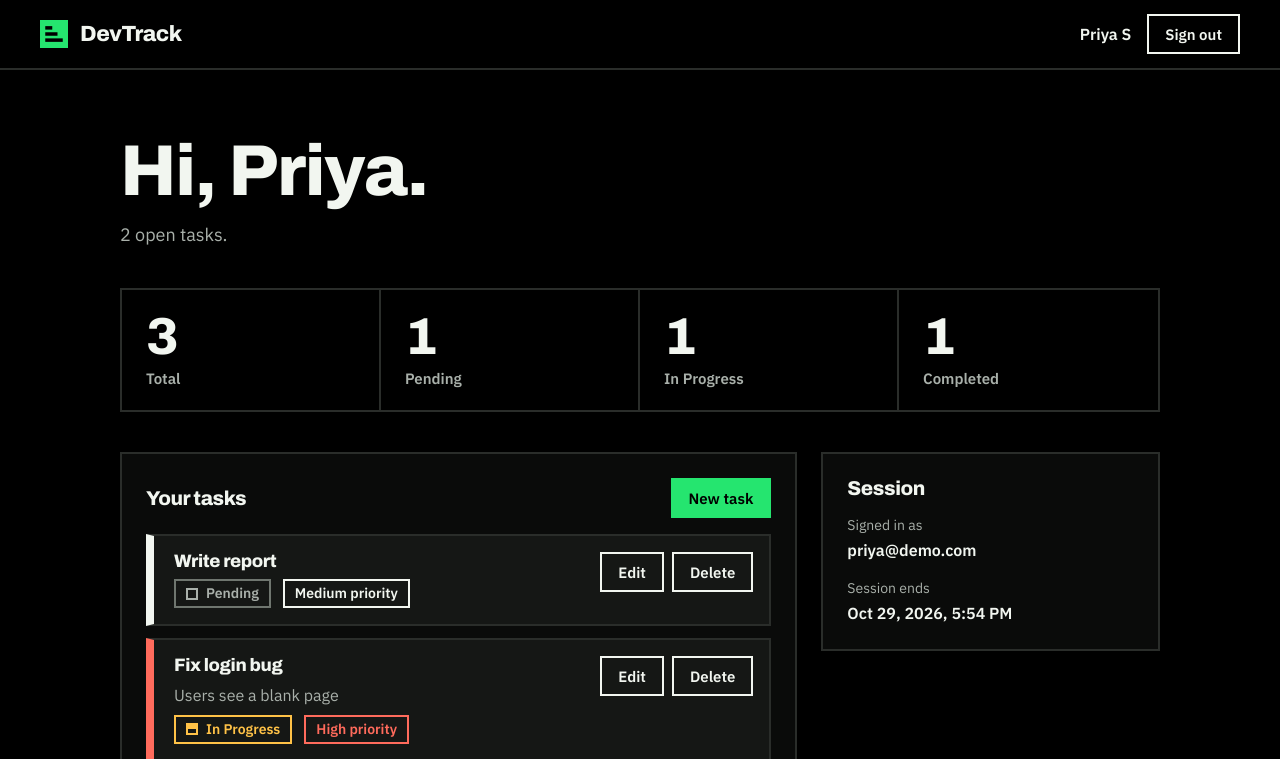
Dashboard: create › creates a task, closes the dialog and adds it to the top of the list
The image size is (1280, 759).
Expected: the heading "Hi, Priya." is shown, top-left (120, 132), bottom-right (428, 210)
Click the button "New task" at (721, 498), box top-left (670, 478), bottom-right (771, 518)
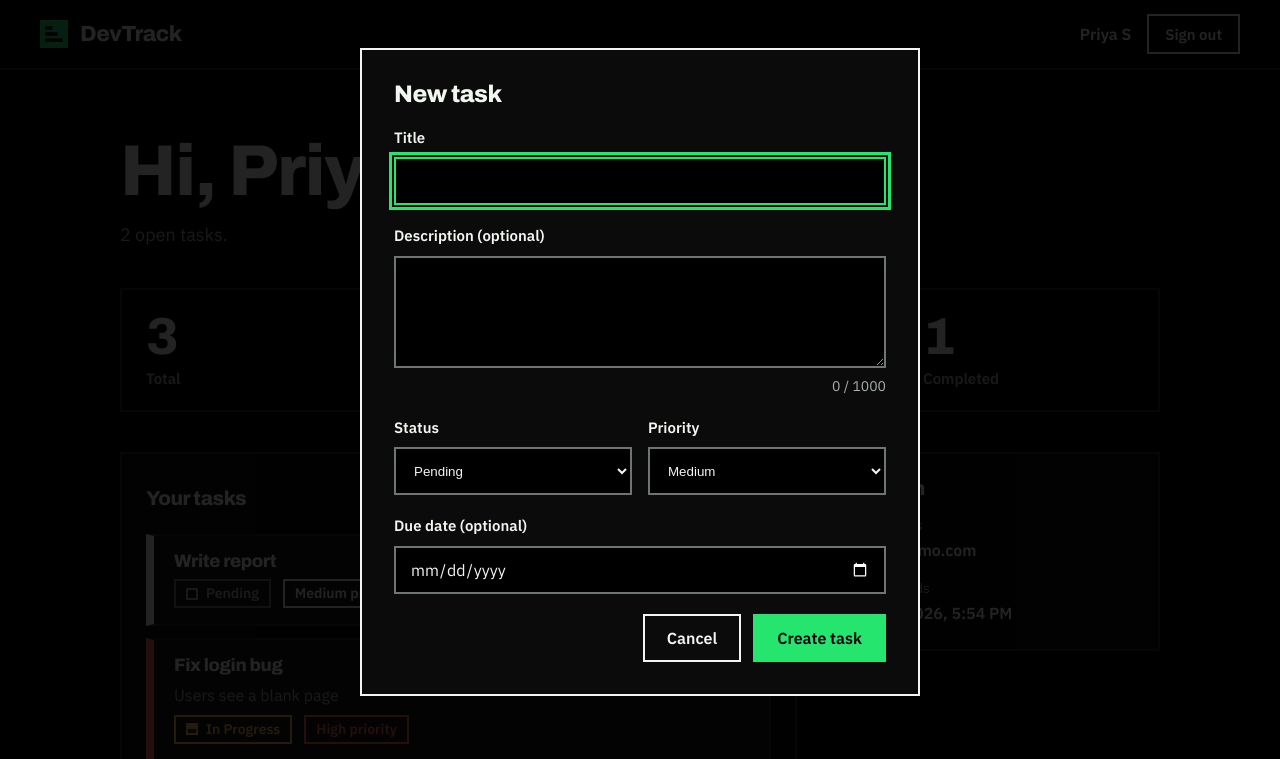
Type "  Plan sprint " into the field labelled "Title" at (640, 182), box top-left (394, 158), bottom-right (886, 206)
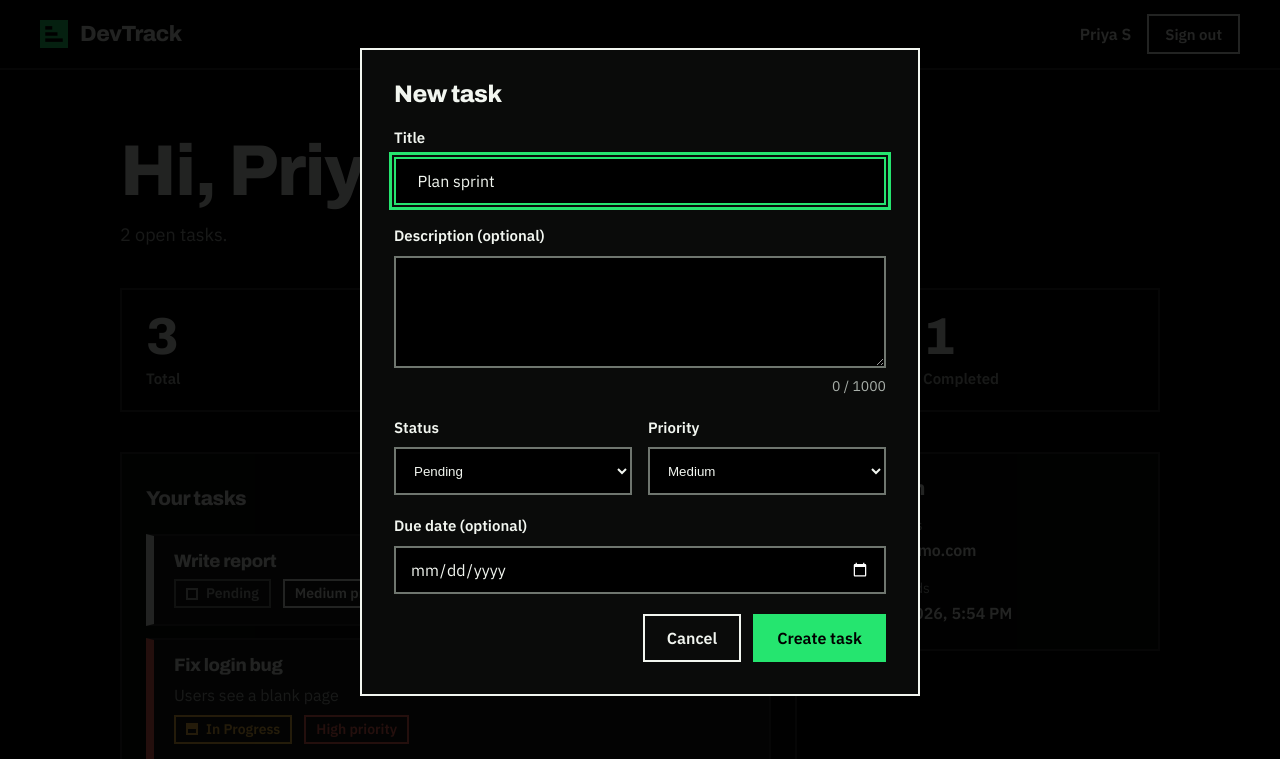
Select "High" in the dropdown labelled "Priority" at (767, 472), box top-left (648, 448), bottom-right (886, 496)
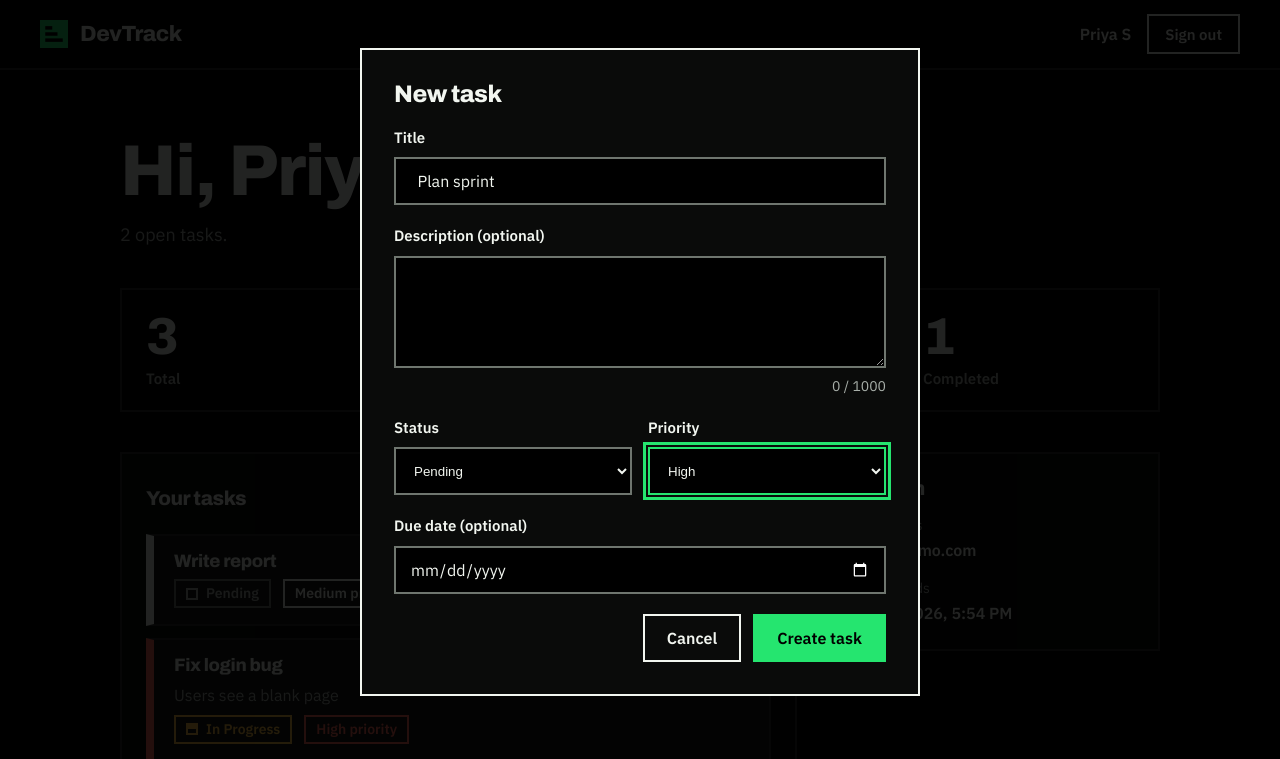
Type "2026-12-31" into the date field labelled "Due date (optional)" at (640, 570), box top-left (394, 546), bottom-right (886, 594)
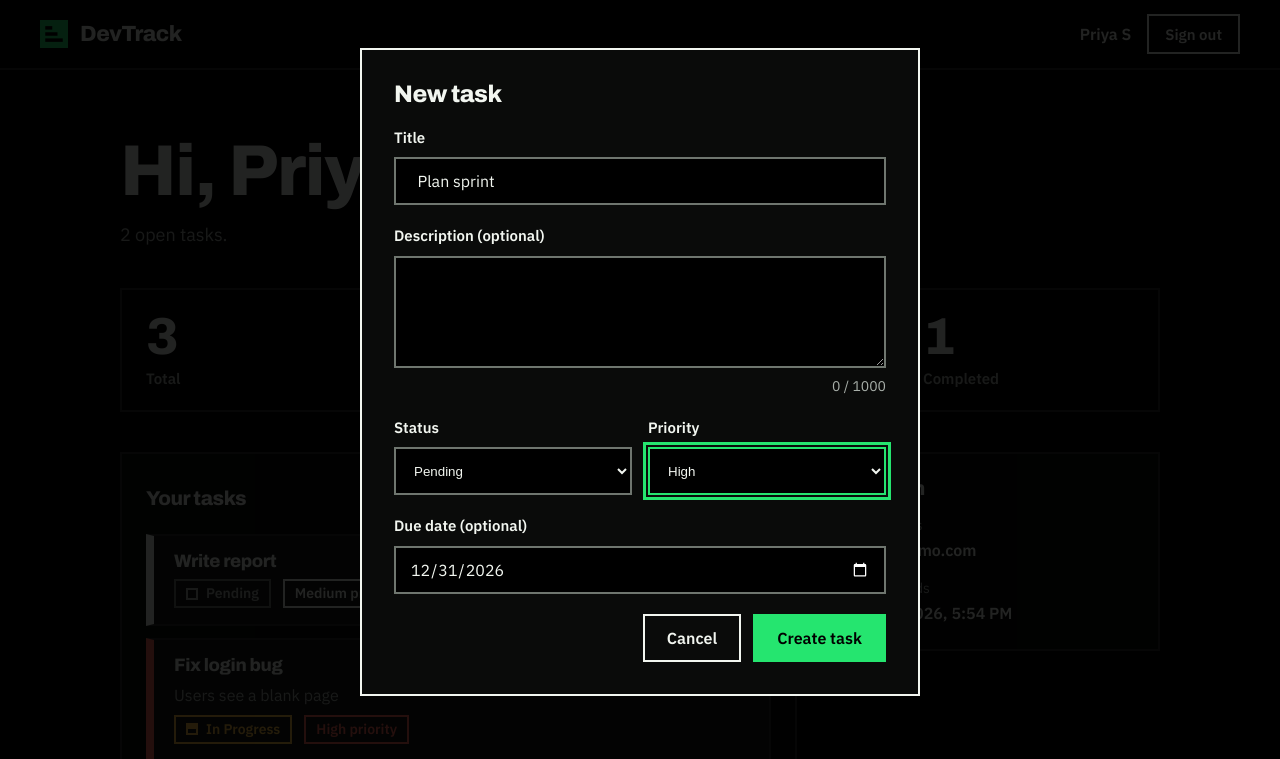
Click the button "Create task" at (820, 638), box top-left (753, 614), bottom-right (886, 662)
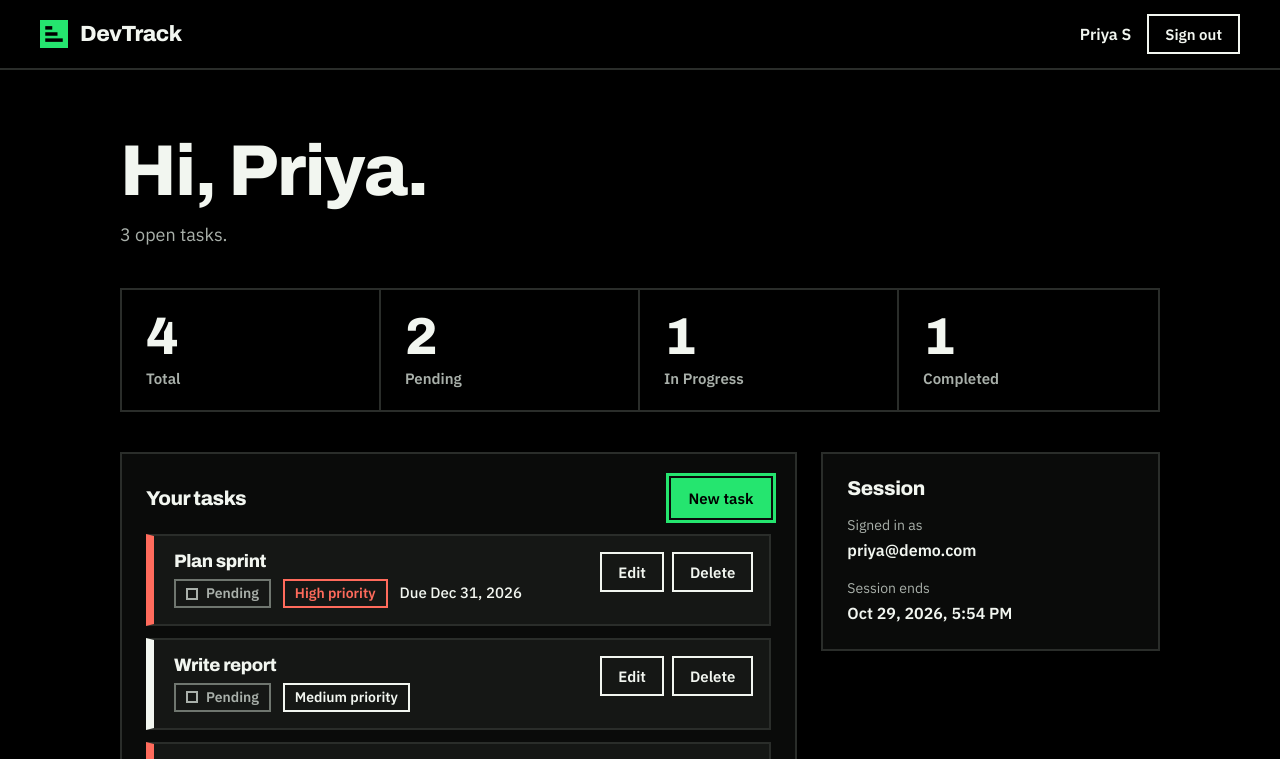
Result: the dialog is gone
Result: the number of list items is 4
Result: the heading "Plan sprint" is shown at top-left (174, 552), bottom-right (266, 572)
